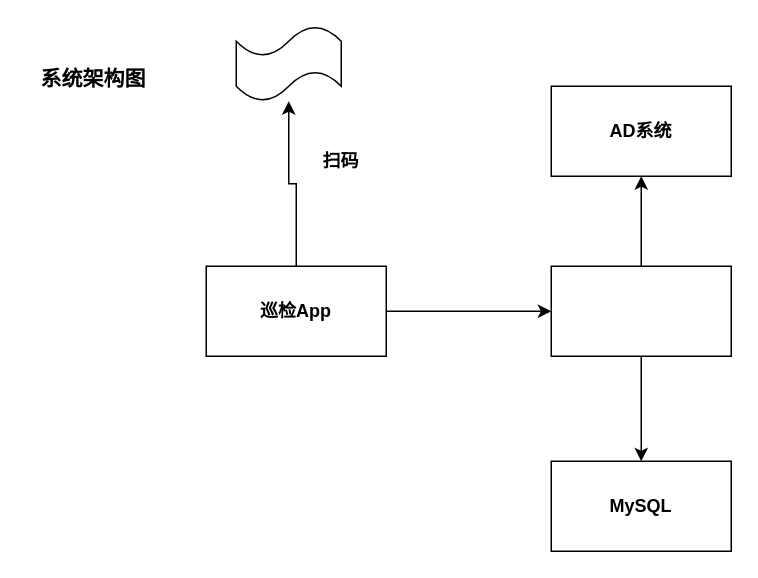
Image size: 758x578. Some labels were removed from this diagram. Here are the shapes that lost their labels. From the top down, the box of each, then its label:
(235, 25, 341, 101): 二维码
(550, 265, 731, 356): App Backend on k8s
